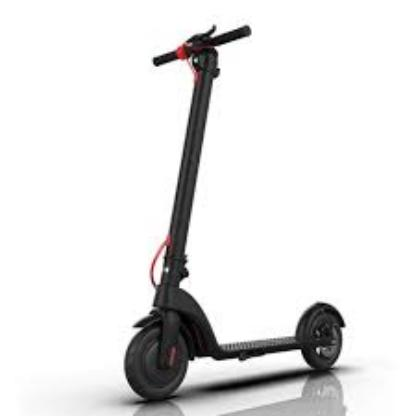bike: (123, 24, 348, 401)
car: (123, 29, 348, 402)
